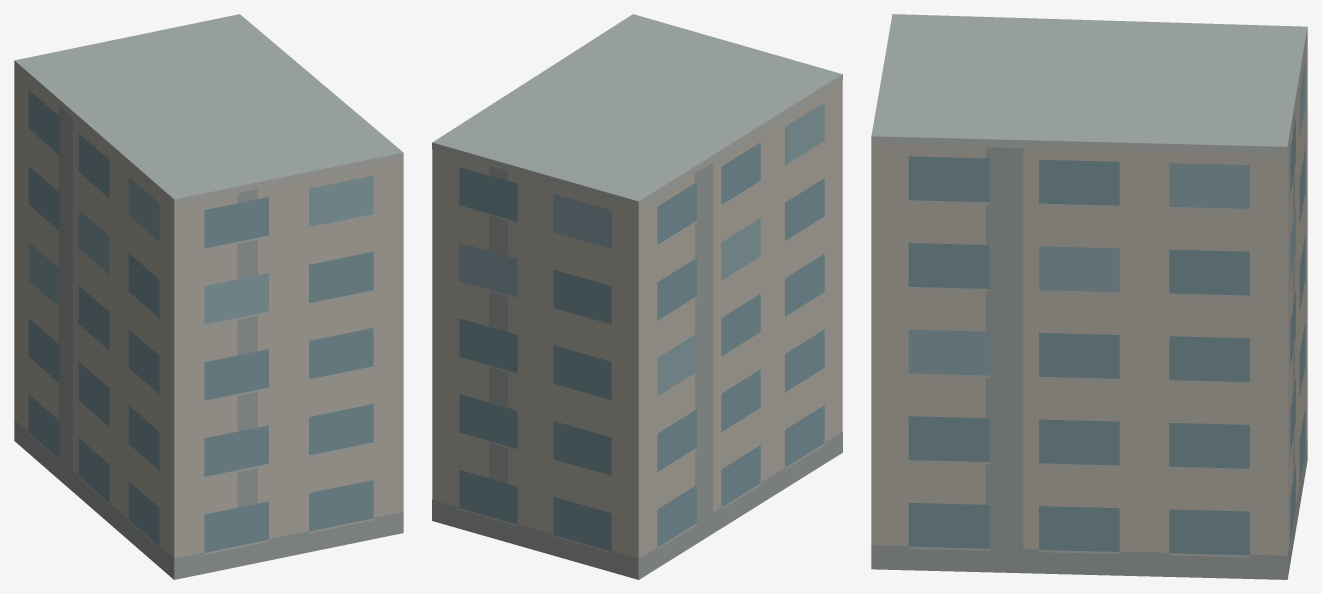
The model's file is survey-upis-32970225.glb.
The picture shows the model from 3 angles, left to right: view 1: azimuth 30°, elevation 25°; view 2: azimuth 150°, elevation 25°; view 3: azimuth 270°, elevation 25°; orthographic projection. The views are drawn at different scales.
Visible parts, largest first — view 1: survey-upis-32970225.tmp; view 2: survey-upis-32970225.tmp; view 3: survey-upis-32970225.tmp.
Part boxes in pixels (x1,y1,x2,y2): survey-upis-32970225.tmp: (14,14,403,579); survey-upis-32970225.tmp: (432,14,842,579); survey-upis-32970225.tmp: (871,14,1307,579).
Bounding box in the file's own units: 8.69 × 13.2 × 12.06.
